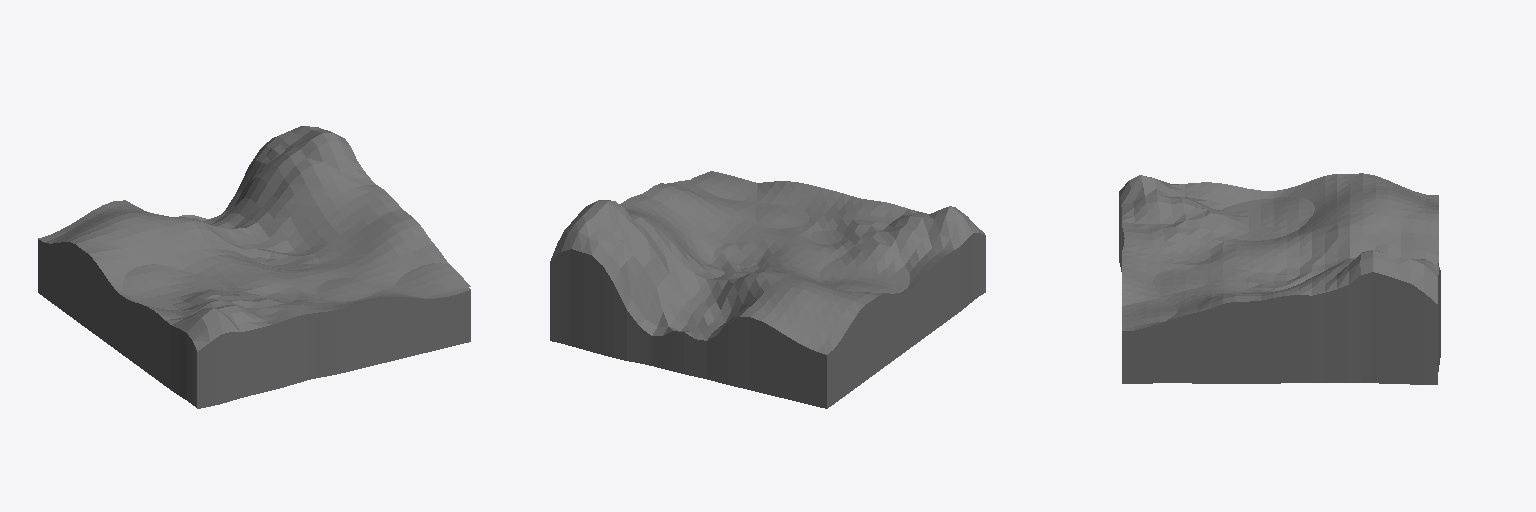
The model's file is GroundTexture.obj.
3 renders of one model, left to right at view 1: azimuth 30°, elevation 25°; view 2: azimuth 150°, elevation 25°; view 3: azimuth 270°, elevation 25°, orthographic.
Parts seen in each view (by area): view 1: pPlane2_pPlane2, pPlane1_pPlane1; view 2: pPlane2_pPlane2, pPlane1_pPlane1; view 3: pPlane2_pPlane2, pPlane1_pPlane1.
Boxes of the visible parts, box(x1,y1,x2,y2) form: pPlane2_pPlane2: box(38, 126, 470, 408); pPlane1_pPlane1: box(38, 143, 470, 349); pPlane2_pPlane2: box(550, 180, 985, 408); pPlane1_pPlane1: box(609, 171, 984, 354); pPlane2_pPlane2: box(1119, 173, 1440, 384); pPlane1_pPlane1: box(1122, 195, 1438, 327).
Size of the model in its own units: 24.24 by 10.21 by 24.35.